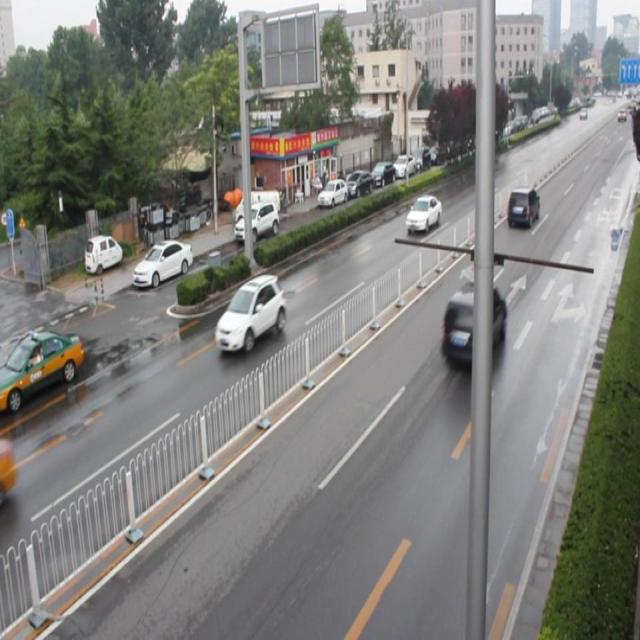car: (215, 272, 288, 356), (404, 192, 441, 238)
truck: (442, 279, 506, 368), (505, 189, 539, 225)
